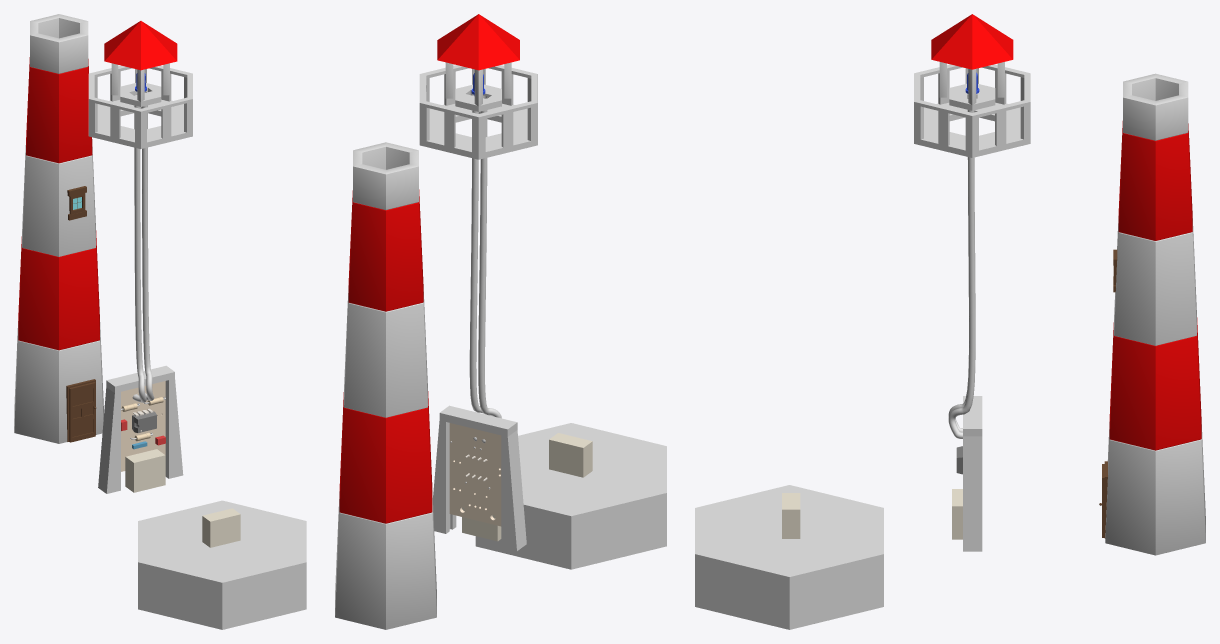
Rendered from obudowa_nowa.fbx.
3 renders of one model, left to right at view 1: azimuth 30°, elevation 25°; view 2: azimuth 150°, elevation 25°; view 3: azimuth 270°, elevation 25°, orthographic. The views are drawn at different scales.
Parts seen in each view (by area): view 1: lighthouse, base, handrails, ekomigacz, Cube, cables, roof, door, ekomigacz.001, roof_base, led_base, window; view 2: lighthouse, base, handrails, Cube, ekomigacz, cables, roof, ekomigacz.001, roof_base, led_base; view 3: lighthouse, base, handrails, roof, Cube, cables, led_base, roof_base, ekomigacz.001, ekomigacz.
Part boxes in pixels (<box>): lighthouse: <box>14,14,103,443</box>; base: <box>138,500,306,629</box>; handrails: <box>88,65,192,148</box>; ekomigacz: <box>121,381,165,492</box>; Cube: <box>98,365,183,493</box>; cables: <box>132,91,154,402</box>; roof: <box>104,21,177,70</box>; door: <box>66,379,96,442</box>; ekomigacz.001: <box>202,508,240,547</box>; roof_base: <box>111,63,169,101</box>; led_base: <box>120,83,161,106</box>; window: <box>67,186,86,220</box>; lighthouse: <box>335,142,436,629</box>; base: <box>475,423,666,569</box>; handrails: <box>419,65,537,159</box>; Cube: <box>433,405,526,551</box>; ekomigacz: <box>449,423,501,541</box>; cables: <box>469,94,501,443</box>; roof: <box>437,14,519,70</box>; ekomigacz.001: <box>549,433,592,477</box>; roof_base: <box>445,62,511,106</box>; led_base: <box>455,84,501,111</box>; lighthouse: <box>1105,73,1205,555</box>; base: <box>695,485,883,629</box>; handrails: <box>914,64,1030,157</box>; roof: <box>931,14,1013,69</box>; Cube: <box>963,396,982,551</box>; cables: <box>948,97,975,438</box>; led_base: <box>949,83,995,110</box>; roof_base: <box>939,62,1004,105</box>; ekomigacz.001: <box>782,493,800,538</box>; ekomigacz: <box>952,446,962,539</box>.
Bounding box in the file's own units: 8258 × 23788 × 19329.
